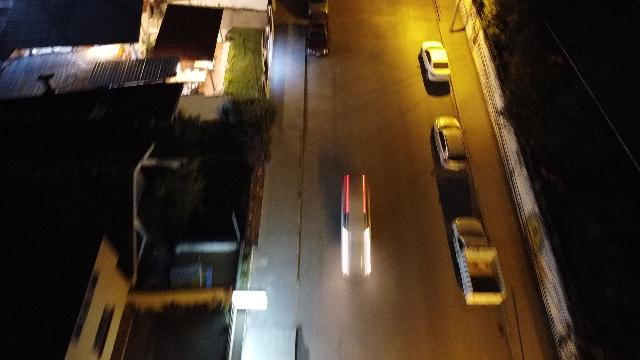Vehiculo: (452, 218, 506, 305), (434, 116, 468, 171), (421, 41, 450, 84), (306, 11, 330, 57)
